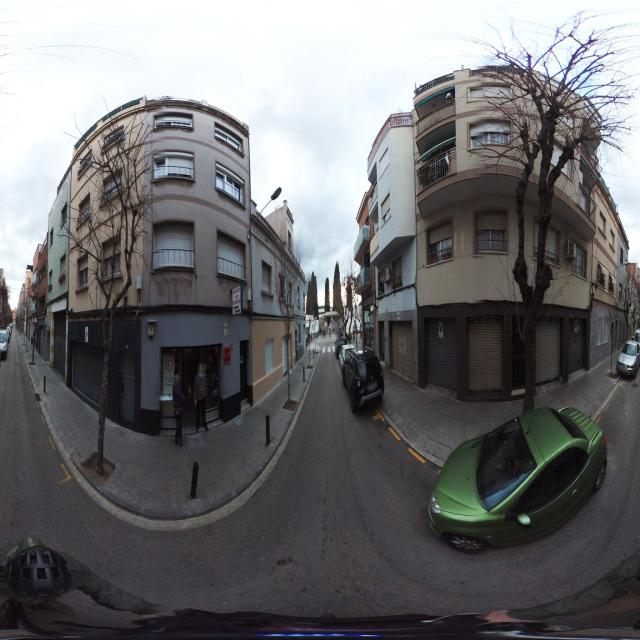forb_stopping: (322, 323, 324, 327), (332, 322, 334, 324)
